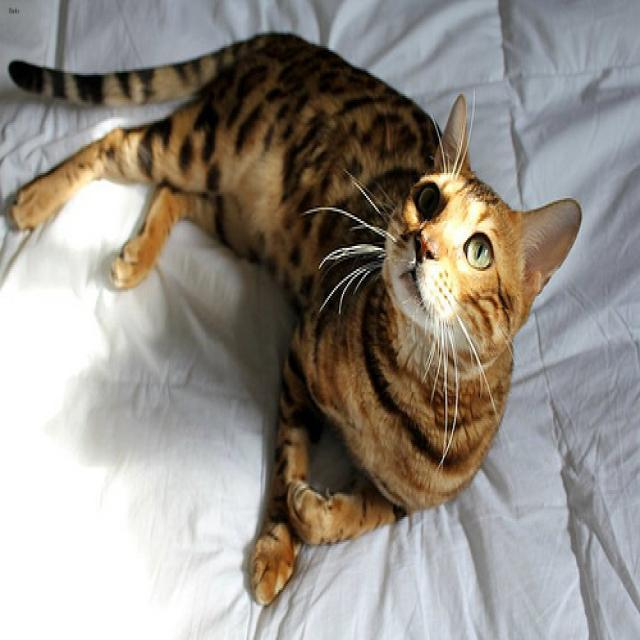Bengal: (379, 90, 585, 368)
